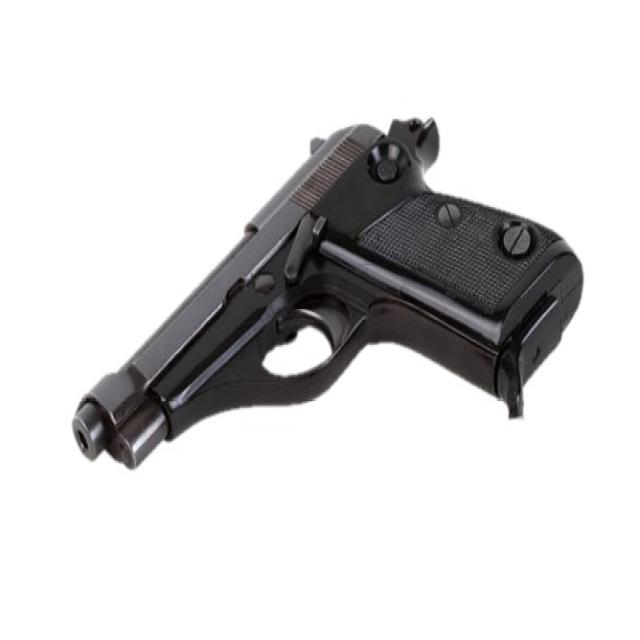pistol: (71, 105, 589, 472)
